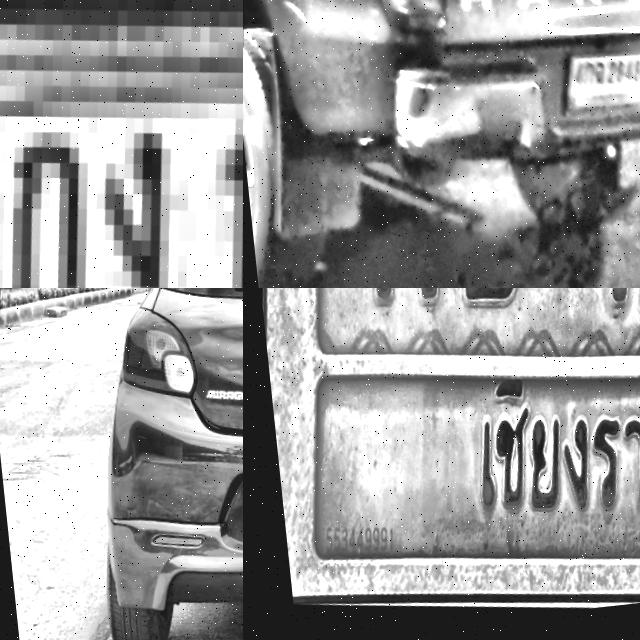license-plate: (243, 288, 640, 640), (0, 0, 243, 288), (544, 44, 640, 137)
